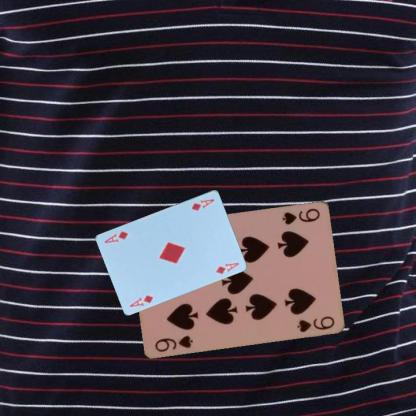9s: (152, 332, 194, 353), (280, 205, 321, 226)
Ad: (188, 196, 216, 212), (127, 292, 154, 308)
